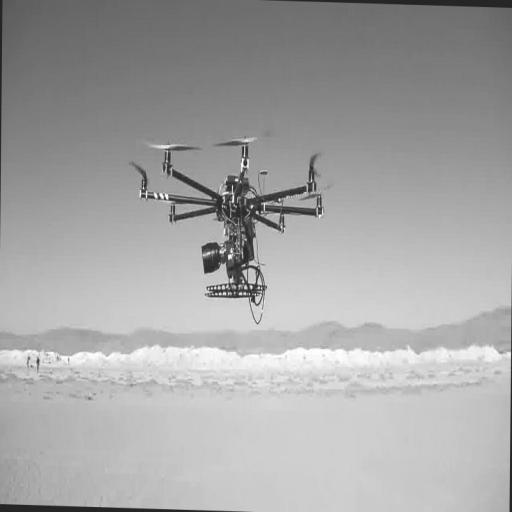drone: (129, 135, 333, 298)
